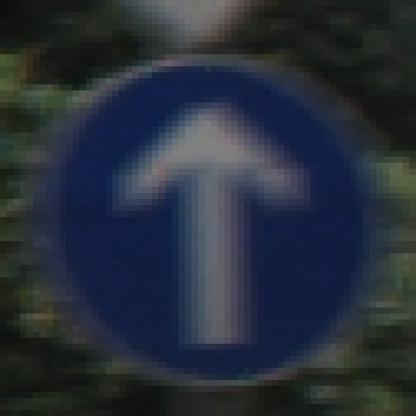AheadOnly: (41, 43, 384, 381)
